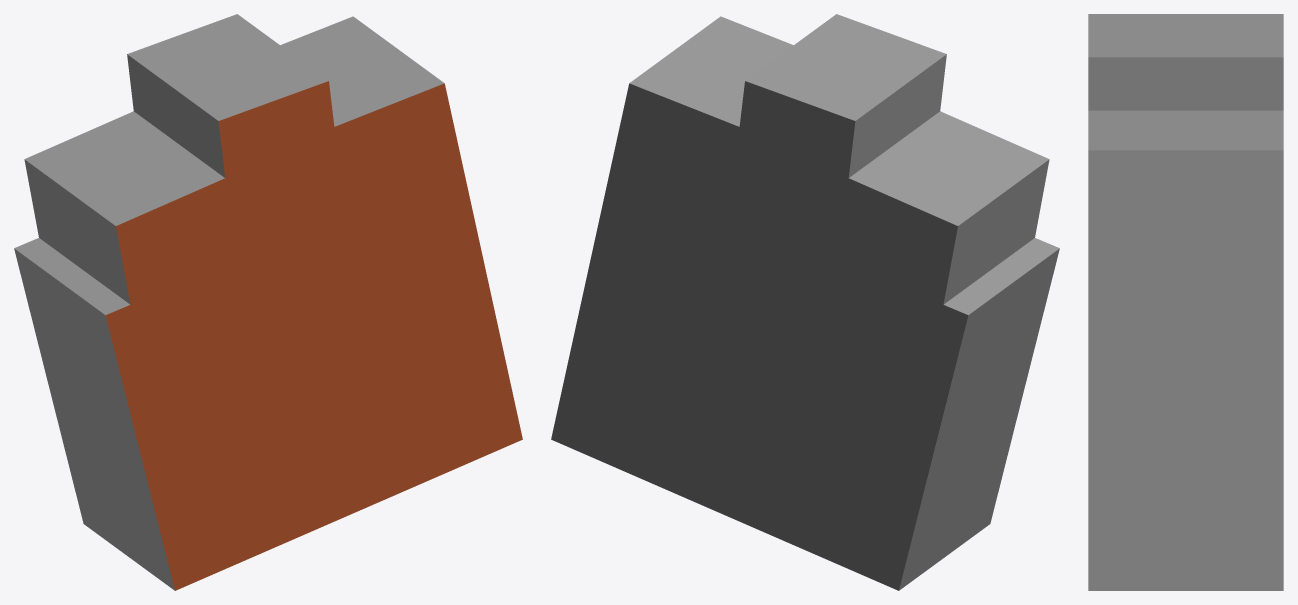
Rendered from construction_5488_assumed_A_Casa_h6m.obj.
3 views of the same model, side by side, from view 1: azimuth 30°, elevation 25°; view 2: azimuth 150°, elevation 25°; view 3: azimuth 270°, elevation 25° (orthographic). The views are drawn at different scales.
Parts seen in each view (by area): view 1: construction_5488_assumed_A_Casa; view 2: construction_5488_assumed_A_Casa; view 3: construction_5488_assumed_A_Casa.
Part boxes in pixels (x1,y1,x2,y2): construction_5488_assumed_A_Casa: (14, 14, 522, 590); construction_5488_assumed_A_Casa: (551, 14, 1059, 590); construction_5488_assumed_A_Casa: (1088, 14, 1283, 590).
Size of the model in its own units: 15.8 by 17.09 by 6.
